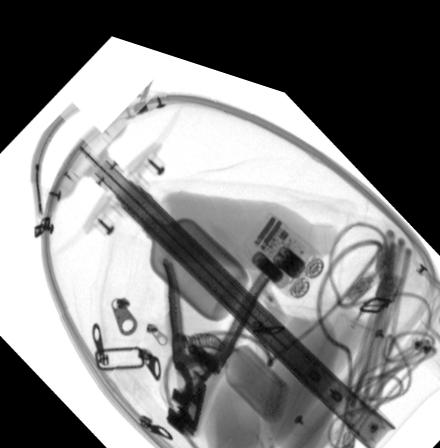Pliers: (159, 246, 272, 424)
